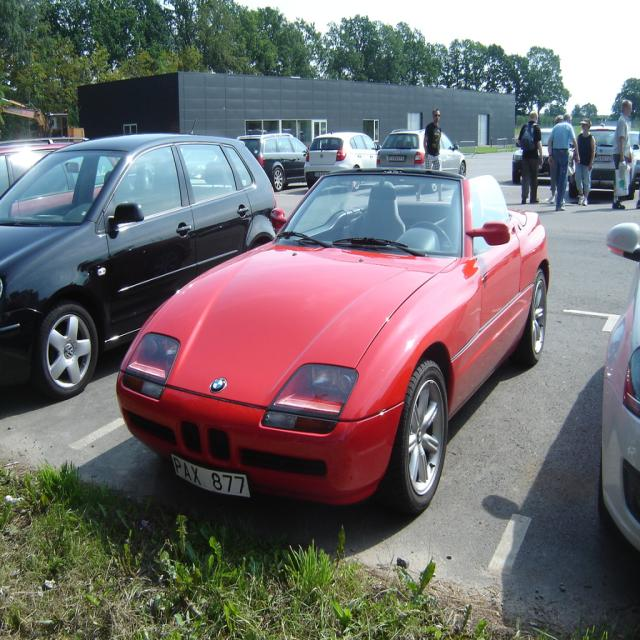car: (110, 169, 550, 511)
